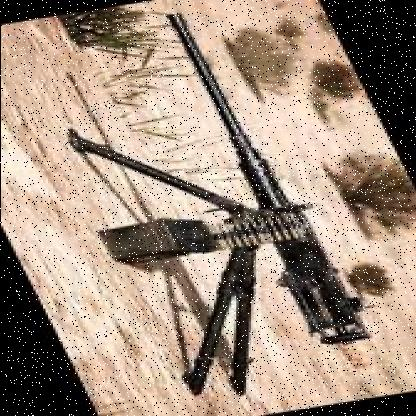rifle: (139, 25, 379, 348)
